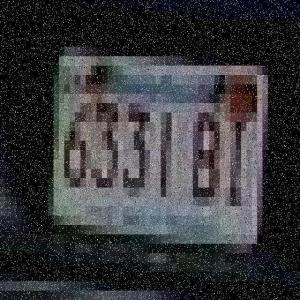Plate: (35, 28, 272, 280)
